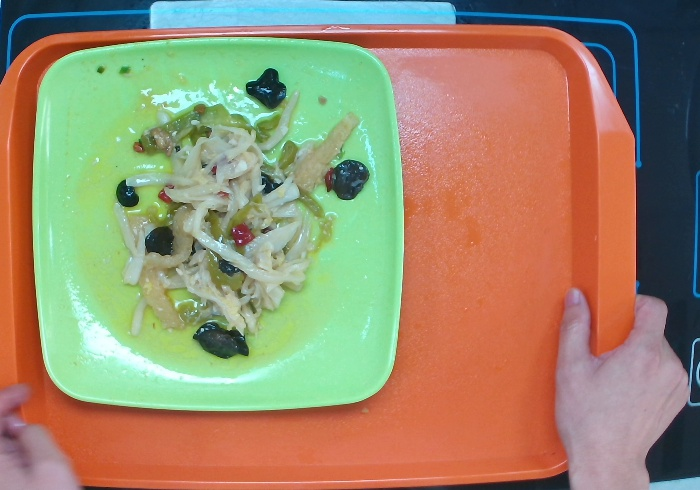ZNLD-Lv_Fang_Pan: (29, 34, 406, 411)
